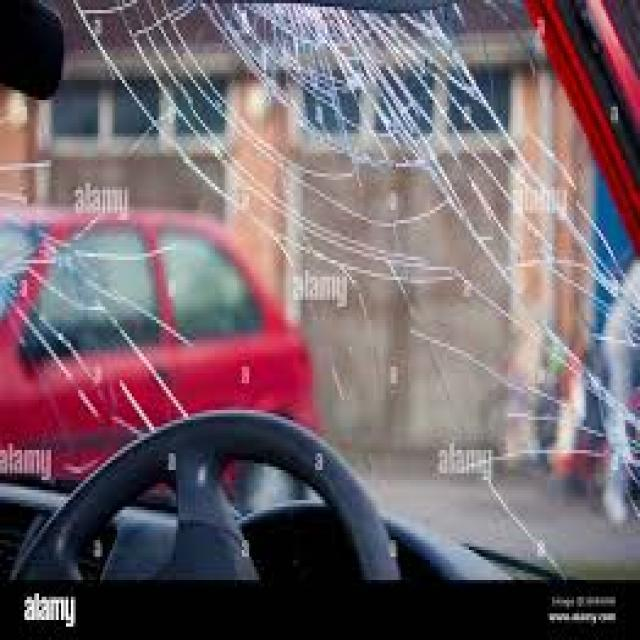damaged-windscreen: (3, 0, 640, 579)
